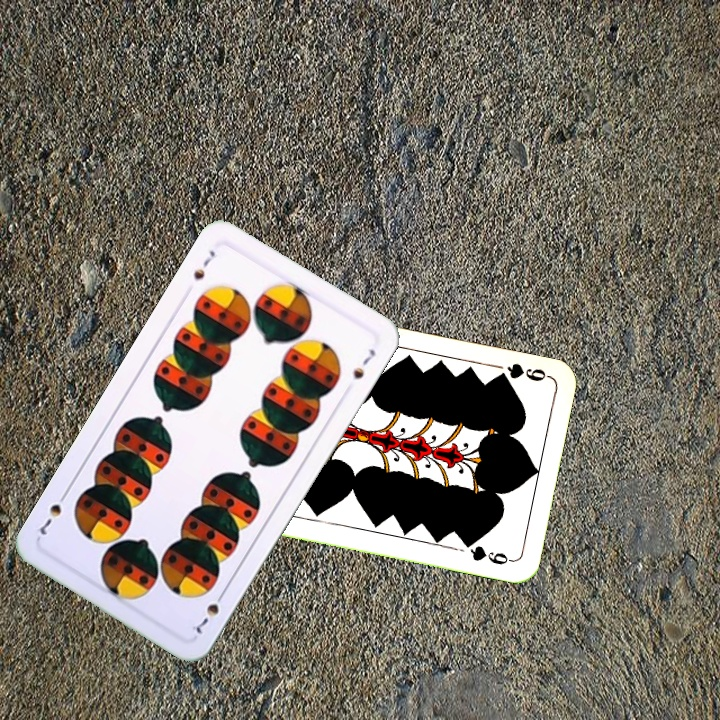G9: (491, 359, 552, 384)
S7: (187, 586, 228, 637), (189, 246, 218, 283)
